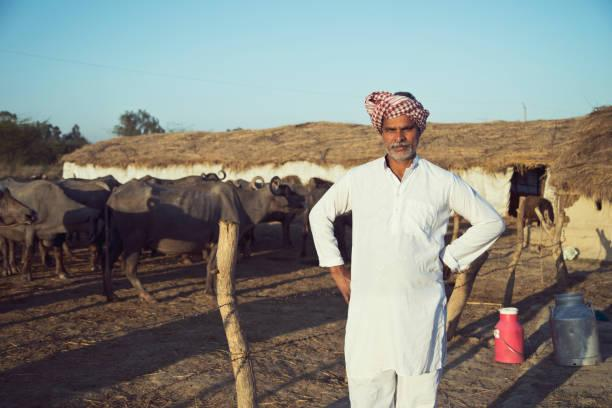Human: (305, 59, 509, 408)
